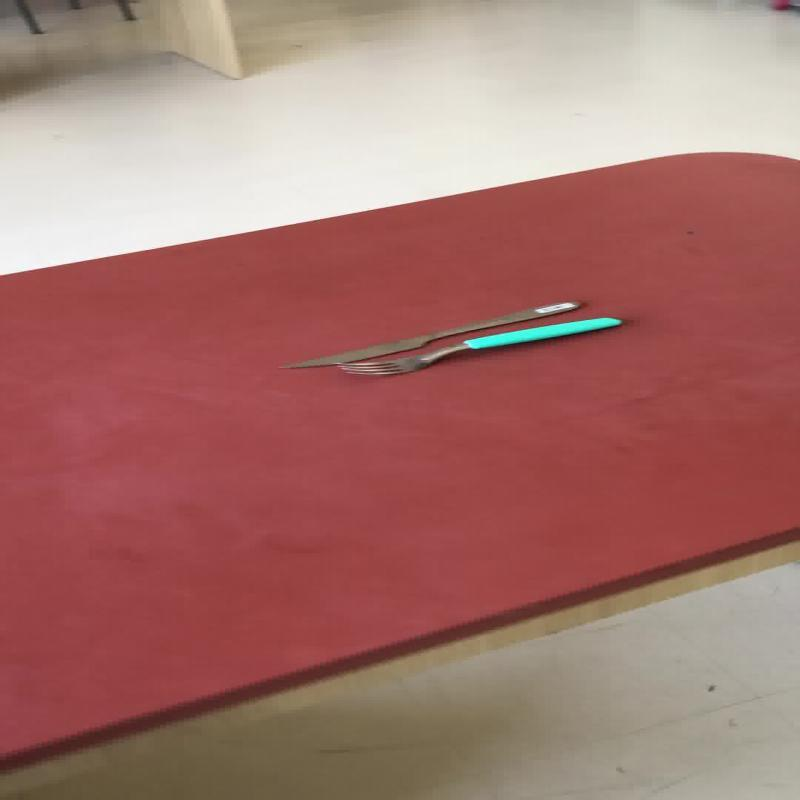fork: (336, 316, 622, 376)
knife: (276, 298, 582, 370), (334, 315, 622, 376)
